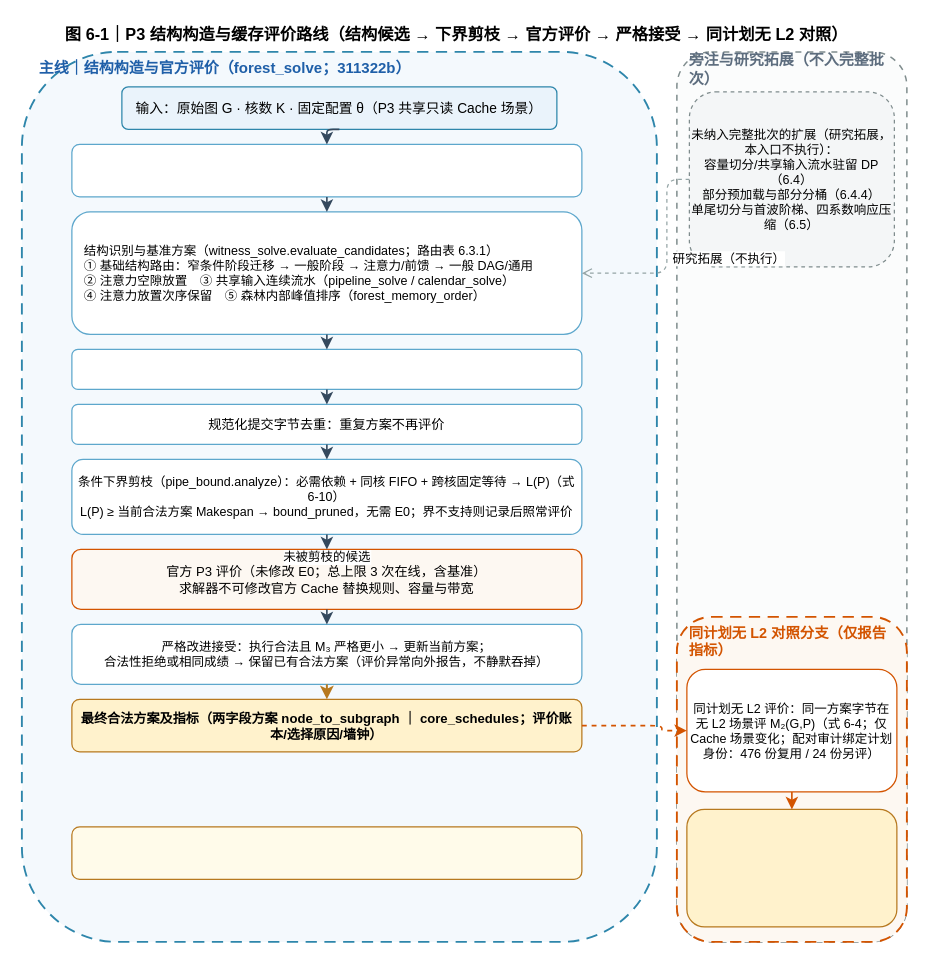
This 930x964 diagram has some shape labels left out. The shapes that lost their labels are listed below. From the top down, each one's centre as x and y in pixels, then its label:
At [326,170]: "结构索引（construct）：计算依赖 · 张量生产者/消费者 · 流水线类型 · 计算时长与字节".
At [326,368]: "结构候选生成（各路线共享同一 E0 总预算）".
At [326,852]: "E0 预算为每图/核数 3 次在线调用（含基准评价）；候选较少不等于总墙钟等于某内部动态规划时长".
At [791,867]: "CacheGain 出口：C = M₃ / M₂ 报告指标；候选接受仍只比较 M₃，不与独立优化的 P2 主算法比较混同".
